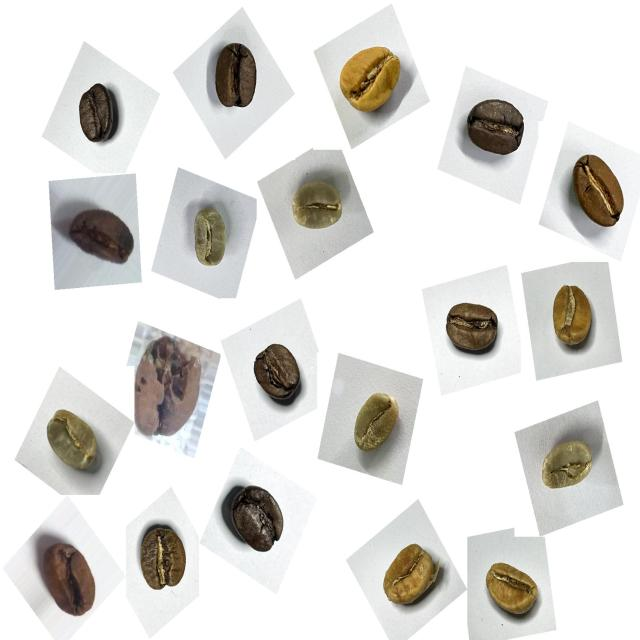bad: (121, 326, 213, 444), (30, 526, 108, 626), (61, 193, 140, 276)
dark: (219, 475, 294, 567), (462, 90, 536, 174), (245, 329, 312, 412), (68, 77, 130, 154)
green: (37, 401, 108, 485), (343, 381, 411, 468), (530, 427, 603, 508), (282, 167, 352, 246), (180, 198, 242, 280)
light: (329, 32, 409, 130), (374, 531, 450, 621), (475, 548, 548, 633), (539, 274, 605, 360)
medium: (562, 142, 639, 241), (129, 520, 197, 603), (204, 36, 268, 121), (437, 290, 507, 364)
